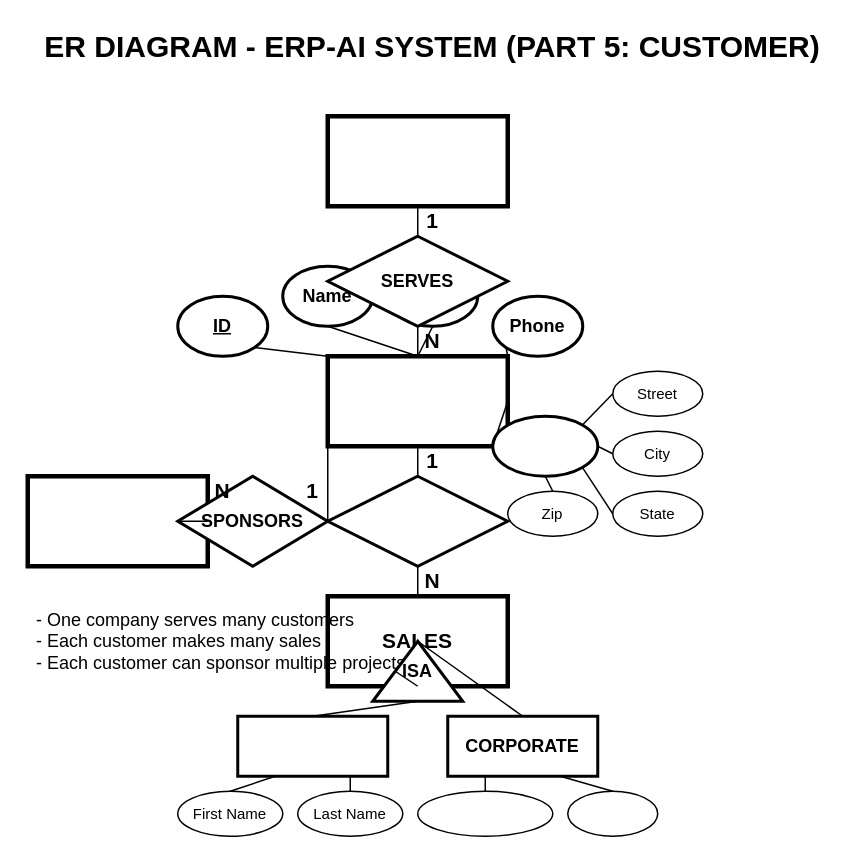
The diagram is 848 pixels wide and 863 high, and some of its shapes have lost their labels. The shapes that lost their labels are listed below. From the top down, each one's centre as x and y in pixels, then its label:
At point 417,160: "COMPANY".
At point 417,400: "CUSTOMER".
At point 544,445: "Address".
At point 117,520: "PROJECT".
At point 417,520: "MAKES".
At point 312,745: "INDIVIDUAL".
At point 484,813: "Company Name".
At point 612,813: "Industry".
